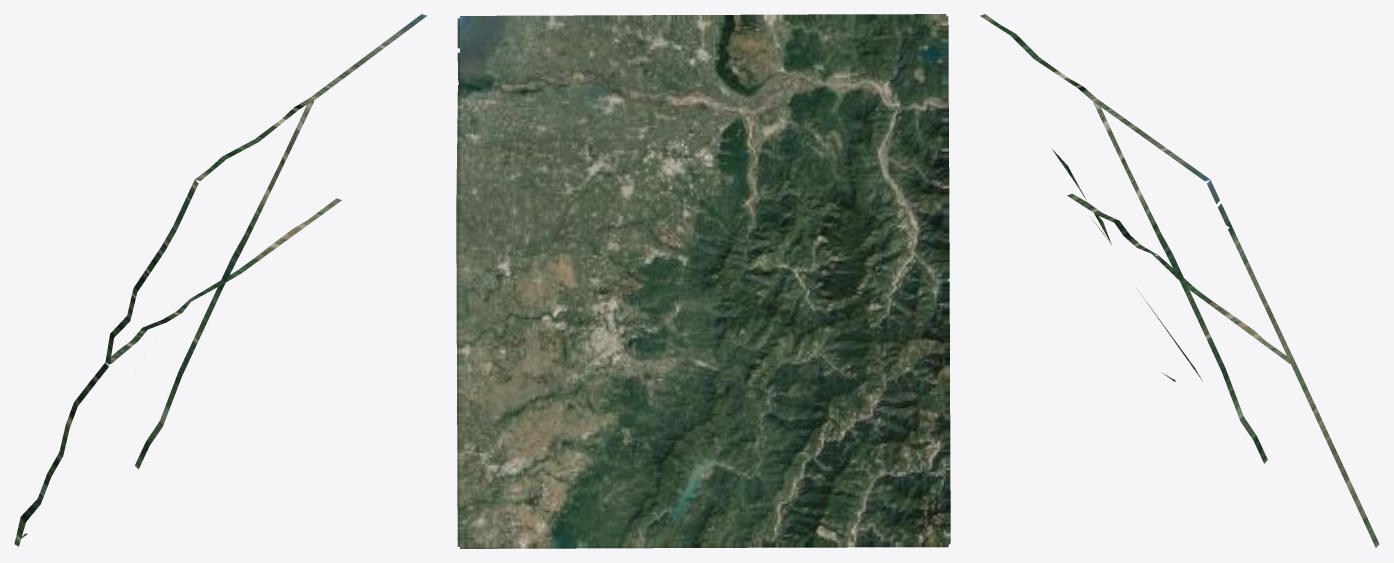
The picture shows the model from 3 angles, left to right: view 1: azimuth 30°, elevation 25°; view 2: azimuth 150°, elevation 25°; view 3: azimuth 270°, elevation 25°; orthographic projection. The views are drawn at different scales.
Size of the model in its own units: 79596 by 72747 by 64081.
Materials: 1 (1 with a texture image).
